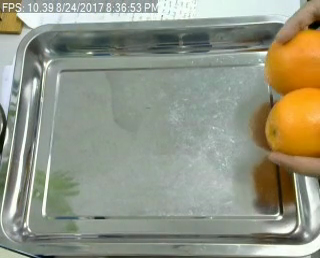Orange: (264, 88, 320, 155), (264, 27, 320, 93)
